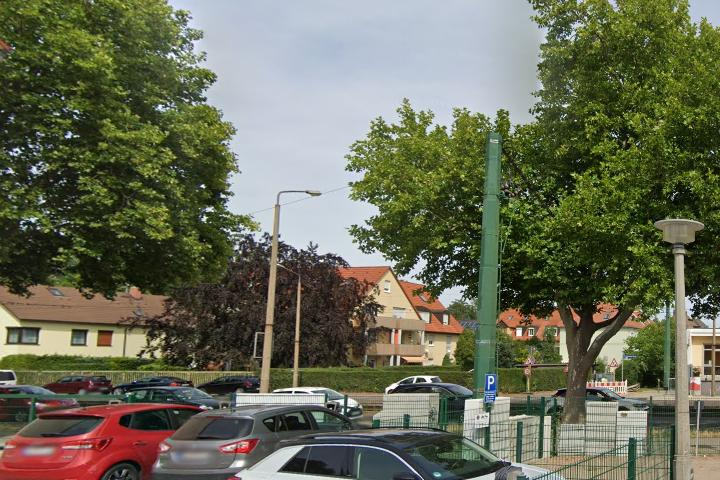vehicle: (1, 397, 274, 480), (150, 401, 385, 480), (34, 373, 115, 400), (193, 373, 265, 397)
